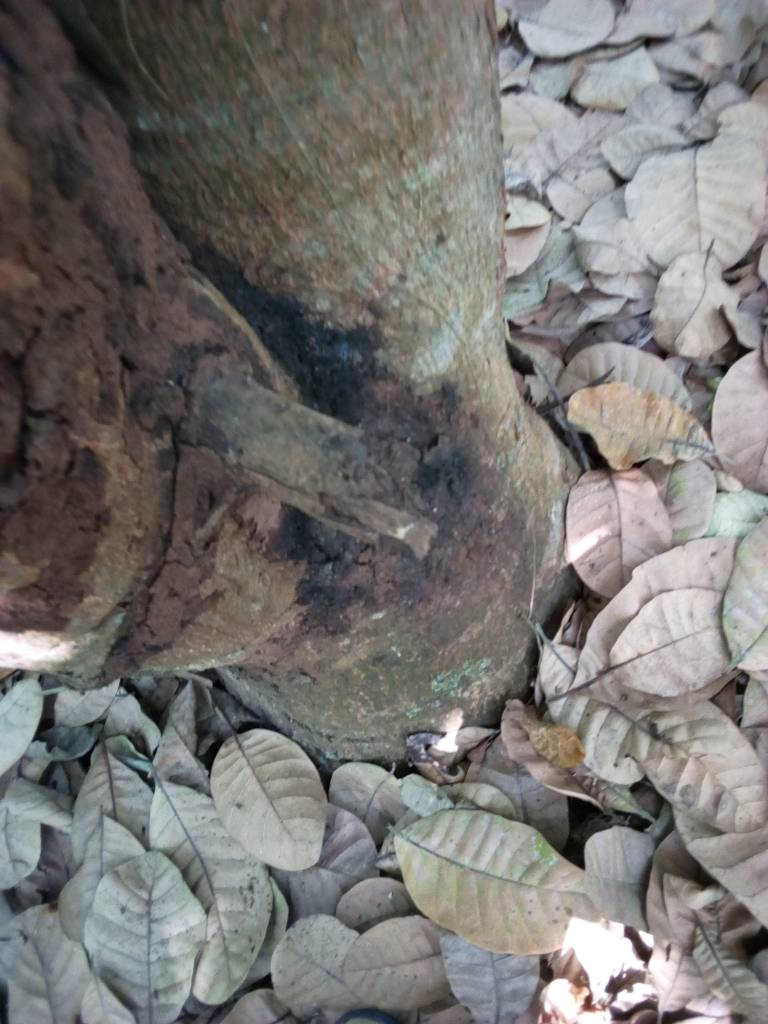Termites: (4, 13, 213, 674)
